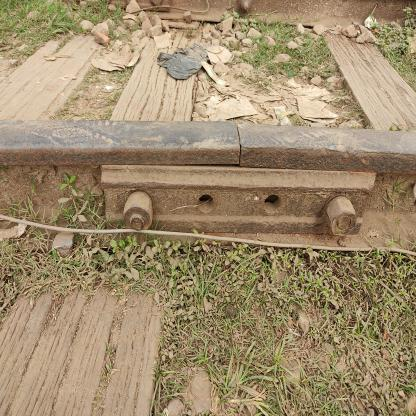Defective 3: (94, 160, 392, 258)
